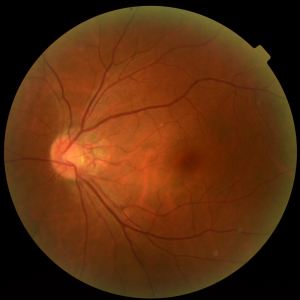healthy_eye: (26, 84, 226, 205)
